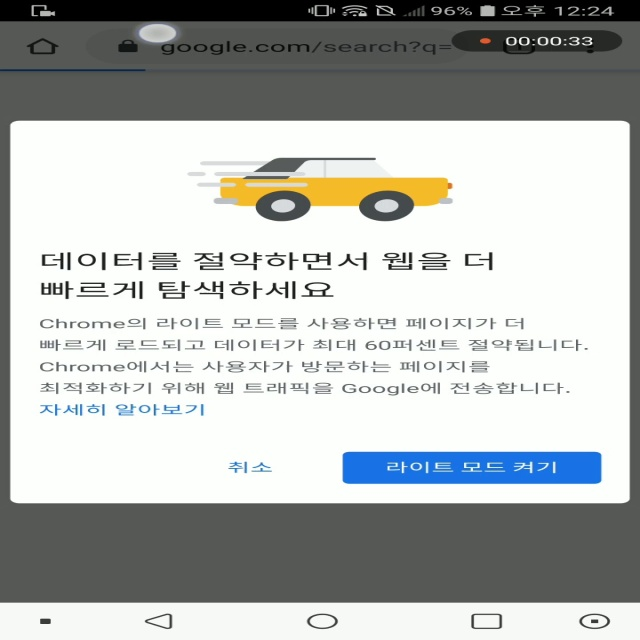Cursor: (136, 23, 180, 45)
